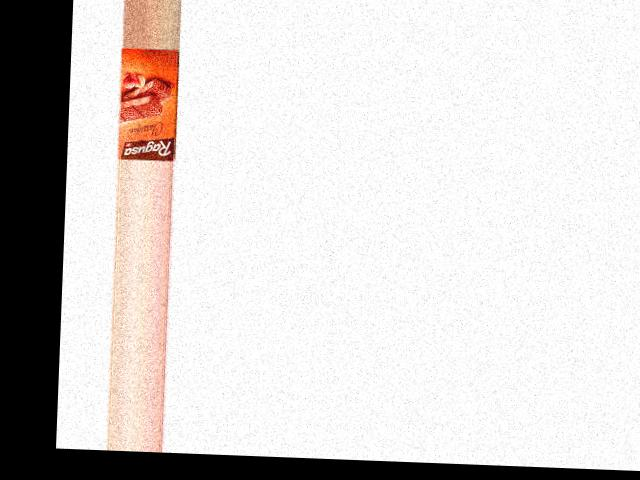chocolate: (110, 46, 182, 160)
